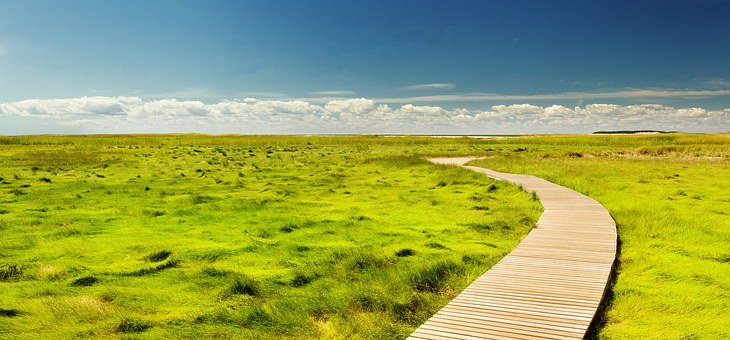field: (8, 143, 730, 336)
sky: (5, 5, 730, 134)
